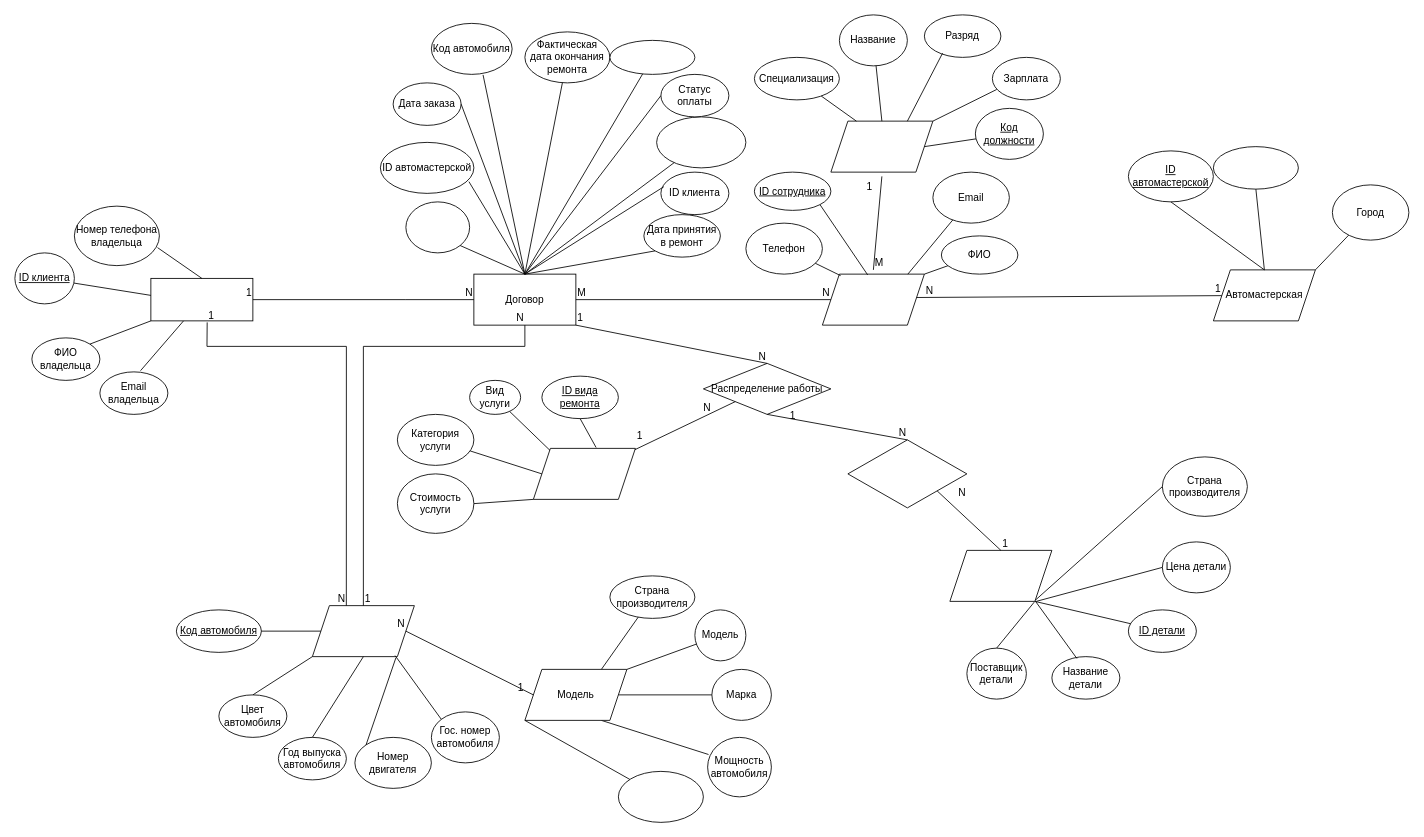
The diagram is 1424 pixels wide and 837 high, and some of its shapes have lost their labels. The shapes that lost their labels are listed below. From the top down, each one's box as (x1, y1, x2, y2) in pixels, then its label:
(609, 40, 695, 74): Статус состояния
(656, 116, 746, 168): Плановая дата окончания ремонта
(830, 120, 933, 172): Должность
(1213, 146, 1298, 189): Адрес автомастерской
(405, 201, 470, 253): Номер договора
(150, 278, 253, 321): Клиент
(822, 273, 924, 325): Сотрудник
(533, 448, 635, 499): Услуга
(847, 439, 967, 508): Деталь в услуге
(949, 550, 1052, 601): Деталь
(312, 605, 414, 657): Автомобиль
(618, 771, 703, 822): Код модели
